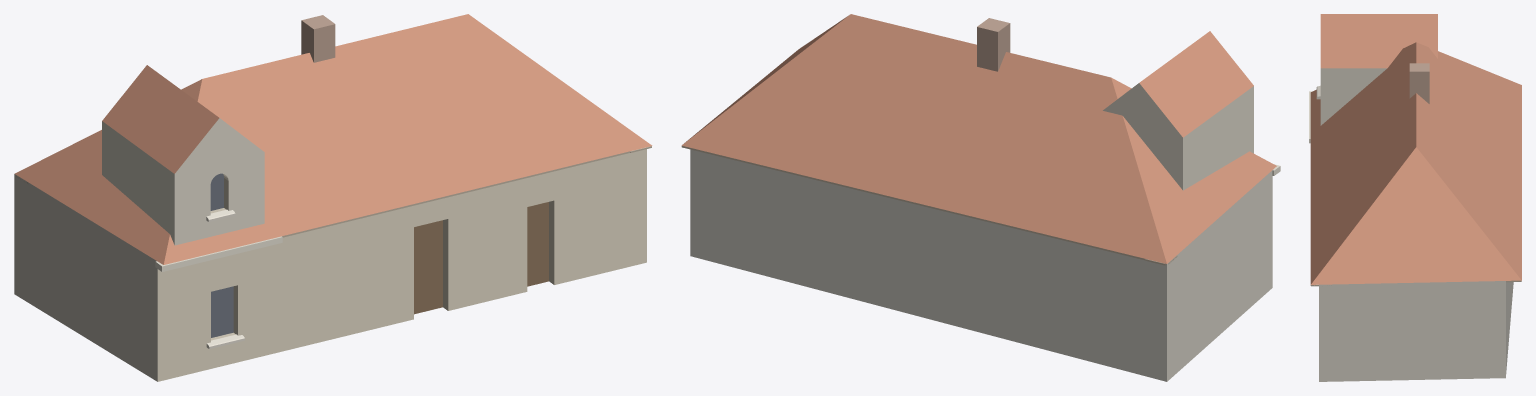
3 renders of one model, left to right at view 1: azimuth 30°, elevation 25°; view 2: azimuth 150°, elevation 25°; view 3: azimuth 270°, elevation 25°, orthographic. The views are drawn at different scales.
Parts seen in each view (by area): view 1: CP_439_Masonry, CP_439_Roof, CP_439_Dormer_CG, CP_439_Chimney_0, CP_439_Cornice_pent_0, CP_439_Roof_EaveClosure_0; view 2: CP_439_Roof, CP_439_Masonry, CP_439_Dormer_CG, CP_439_Chimney_0, CP_439_Roof_EaveClosure_2; view 3: CP_439_Roof, CP_439_Masonry, CP_439_Dormer_CG, CP_439_Chimney_0.
Part boxes in pixels (left/top/right/bottom): CP_439_Masonry: left=14, top=149, right=646, bottom=381; CP_439_Roof: left=14, top=14, right=652, bottom=264; CP_439_Dormer_CG: left=102, top=65, right=264, bottom=245; CP_439_Chimney_0: left=301, top=15, right=335, bottom=62; CP_439_Cornice_pent_0: left=155, top=236, right=282, bottom=271; CP_439_Roof_EaveClosure_0: left=282, top=151, right=630, bottom=237; CP_439_Roof: left=682, top=14, right=1276, bottom=263; CP_439_Masonry: left=690, top=149, right=1272, bottom=381; CP_439_Dormer_CG: left=1103, top=31, right=1253, bottom=190; CP_439_Chimney_0: left=977, top=18, right=1010, bottom=71; CP_439_Roof_EaveClosure_2: left=681, top=146, right=1177, bottom=264; CP_439_Roof: left=1310, top=42, right=1521, bottom=284; CP_439_Masonry: left=1319, top=281, right=1513, bottom=381; CP_439_Dormer_CG: left=1320, top=14, right=1437, bottom=125; CP_439_Chimney_0: left=1409, top=63, right=1429, bottom=103.
Size of the model in its own units: 14.1 by 6.9 by 6.35.
